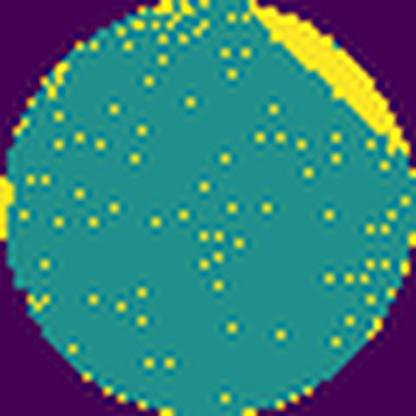Edge-Loc: (248, 0, 415, 161)
